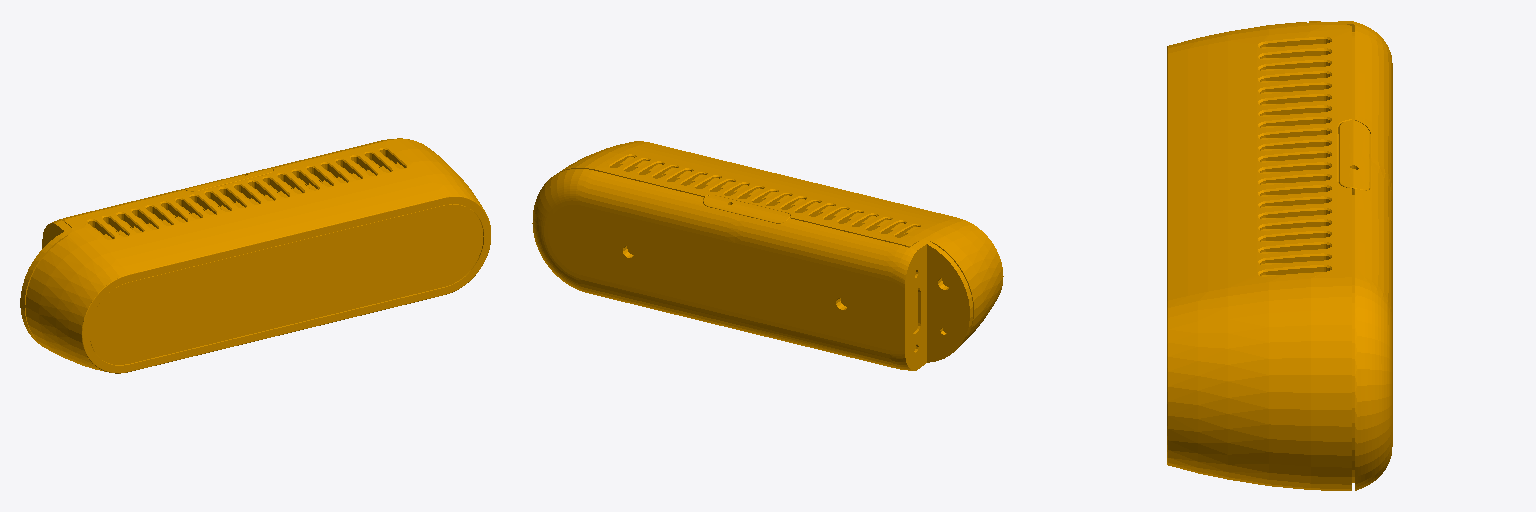
The robot description file, URDF, robot "IntelRealsenseD435i":
<?xml version="1.0"?>
<robot name="IntelRealsenseD435i">

  <link name="base_link">
    <visual>
      <origin xyz="0 0 0" rpy="0 0 0"/>
      <geometry>
        <mesh filename="IntelRealsenseD435.stl"/>
      </geometry>
    </visual>
    <collision>
      <origin xyz="0 0 0" rpy="0 0 0"/>
      <geometry>
        <mesh filename="IntelRealsenseD435.stl"/>
      </geometry>
    </collision>
    <inertial>
      <mass value="0"/>
      <inertia ixx="0.0" iyy="0.0" izz="0.0" ixy="0" ixz="0" iyz="0"/>
      <origin xyz="0.0 0.0 0.0" rpy="0 0 0"/>
    </inertial>
  </link>

</robot>

--- What the picture shows (computed from the rendered views, not written in the file) ---
3 views of the same robot in one strip: view 1: azimuth 30°, elevation 25°; view 2: azimuth 150°, elevation 25°; view 3: azimuth 270°, elevation 25° (orthographic).
Model IntelRealsenseD435i with 1 links and 0 joints (none), rooted at base_link, posed every joint at zero.
Links seen in each view (by area): view 1: base_link; view 2: base_link; view 3: base_link.
Link boxes in pixels (box(x1,y1,x2,y2)): base_link: box(20, 138, 490, 373); base_link: box(532, 141, 1003, 370); base_link: box(1167, 21, 1392, 490).
Size in the robot's own frame: 0.0899 by 0.025 by 0.025 metres.
Meshes: 1 distinct files referenced, 1 mesh visuals loaded (1 binary STL).
